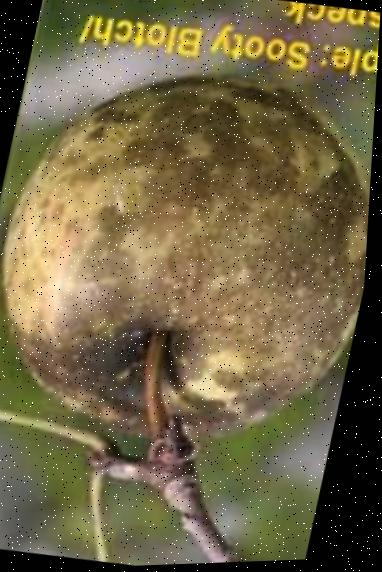BLOTCH: (0, 53, 378, 496)
